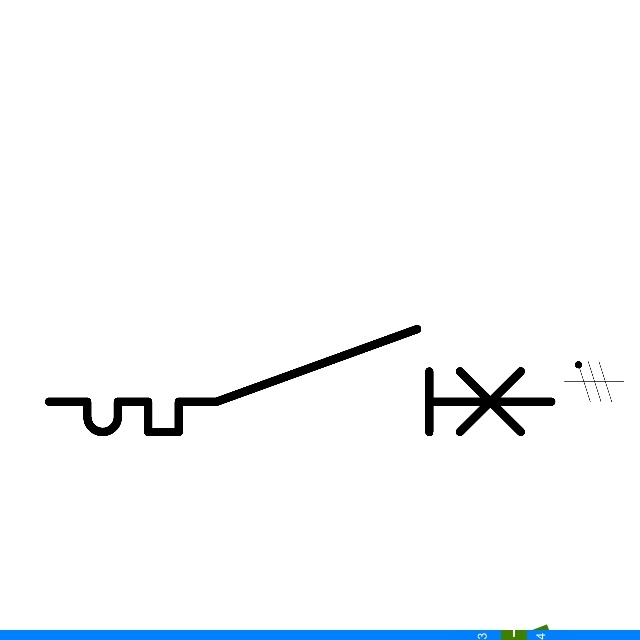interruptor_termomagnetico: (36, 316, 564, 445)
